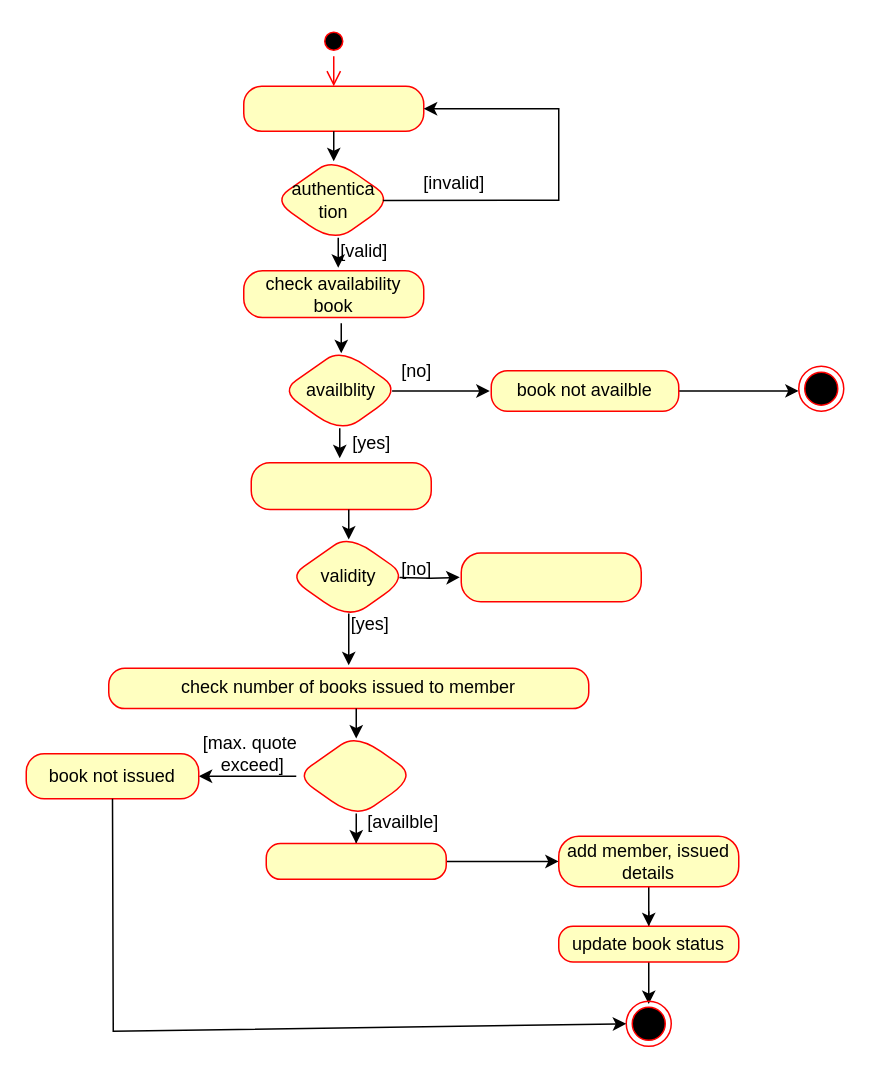
Some shapes in this 870 by 1073 pixel diagram are drawn without their labels. The shapes that lost their labels are listed below. From the top down, each one's centre as x and y in pixels, then its label:
the point at 333,108: login
the point at 340,485: validate member
the point at 550,576: register member
the point at 355,860: issue book
